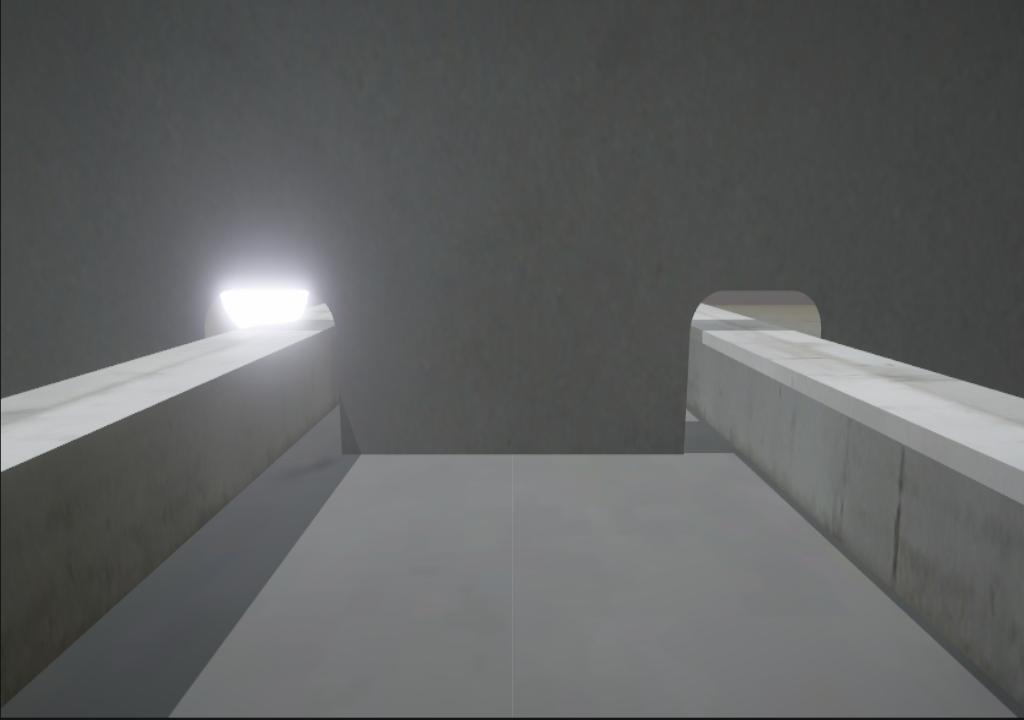fillet_yong_jeop_jang: (334, 434, 701, 477)
